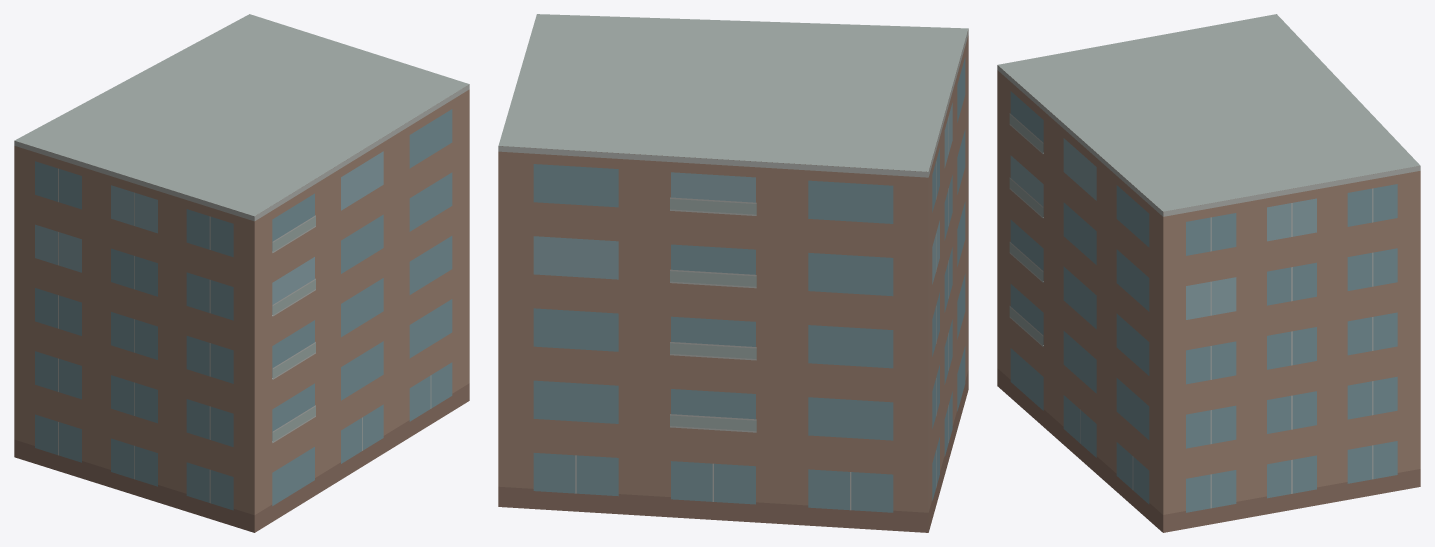
Rendered from residential-97234270-037d-49a1-be18-ac31cb65a54b.glb.
3 views of the same model, side by side, from view 1: azimuth 30°, elevation 25°; view 2: azimuth 150°, elevation 25°; view 3: azimuth 270°, elevation 25° (orthographic). The views are drawn at different scales.
Visible parts, largest first — view 1: residential-97234270-037d-49a1-be18-ac31cb65a54b.tmp; view 2: residential-97234270-037d-49a1-be18-ac31cb65a54b.tmp; view 3: residential-97234270-037d-49a1-be18-ac31cb65a54b.tmp.
Boxes of the visible parts, left/top/right/bottom form: residential-97234270-037d-49a1-be18-ac31cb65a54b.tmp: left=14, top=14, right=469, bottom=532; residential-97234270-037d-49a1-be18-ac31cb65a54b.tmp: left=498, top=14, right=968, bottom=532; residential-97234270-037d-49a1-be18-ac31cb65a54b.tmp: left=997, top=14, right=1420, bottom=532.
Size of the model in its own units: 20.15 by 15.25 by 18.22.
